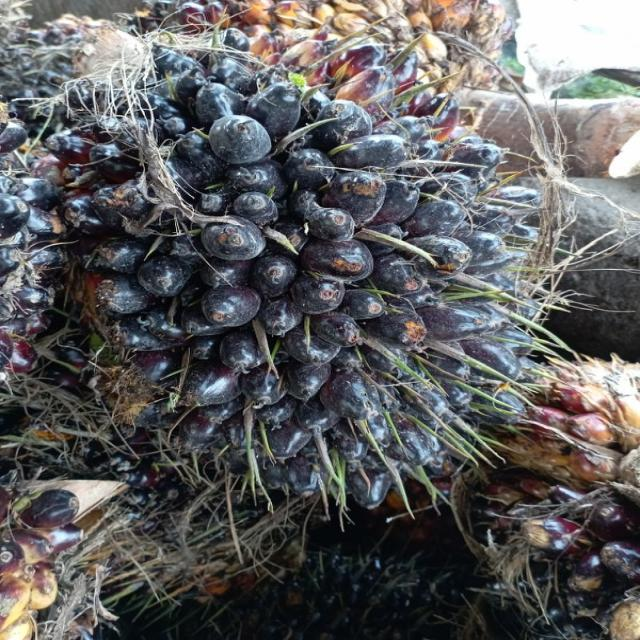fraksi 00: (0, 28, 544, 518)
